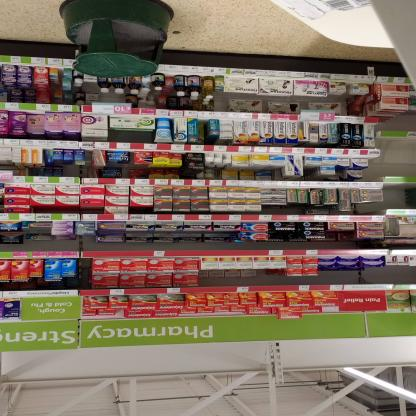empty_space: (383, 138, 416, 176), (385, 183, 407, 209), (406, 184, 416, 210)
